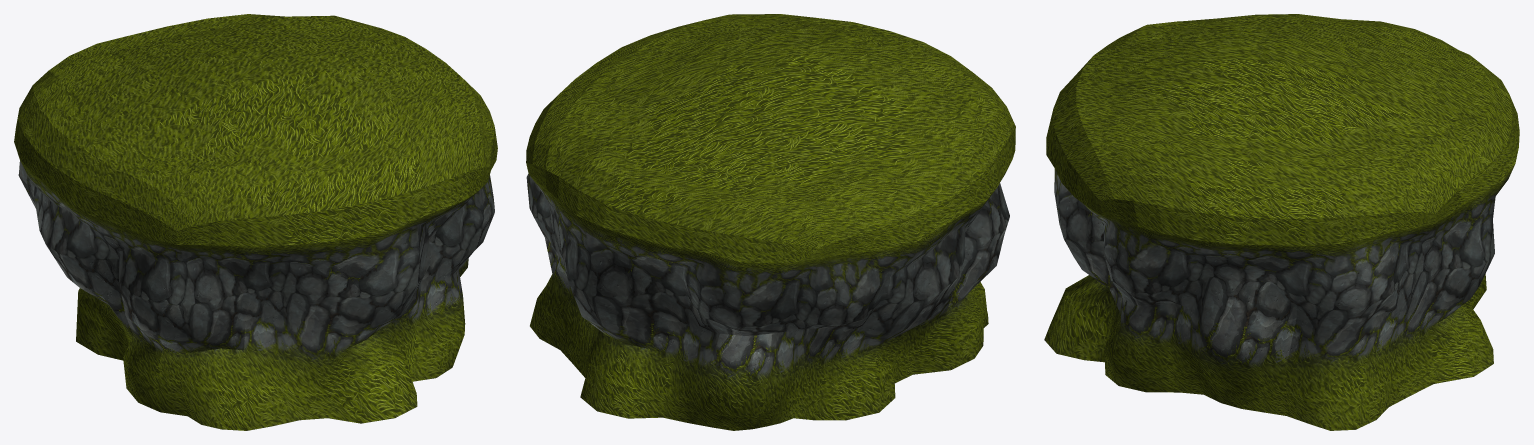
Rendered from PlatformGrass2.obj.
3 renders of one model, left to right at view 1: azimuth 30°, elevation 25°; view 2: azimuth 150°, elevation 25°; view 3: azimuth 270°, elevation 25°, orthographic. The views are drawn at different scales.
Parts seen in each view (by area): view 1: Mesh; view 2: Mesh; view 3: Mesh.
Boxes of the visible parts, <box> form: Mesh: <box>14,14,497,430</box>; Mesh: <box>526,14,1015,430</box>; Mesh: <box>1044,14,1519,430</box>.
Bounding box in the file's own units: 14.27 × 9.16 × 14.52.
